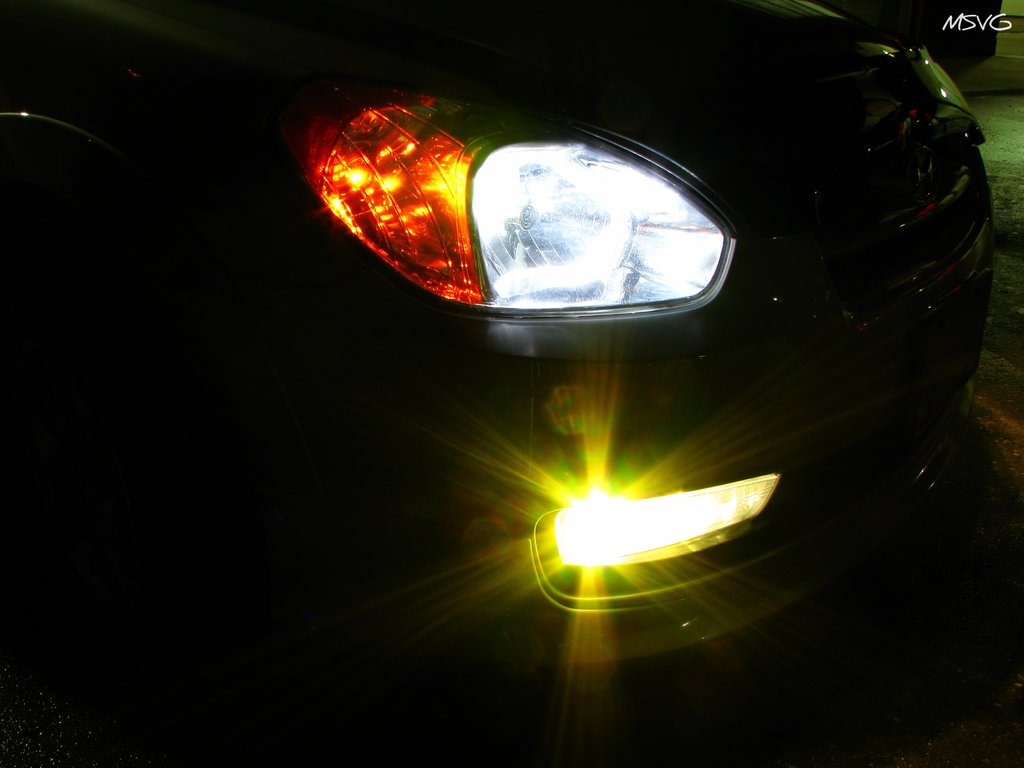Car: (0, 0, 1000, 753)
